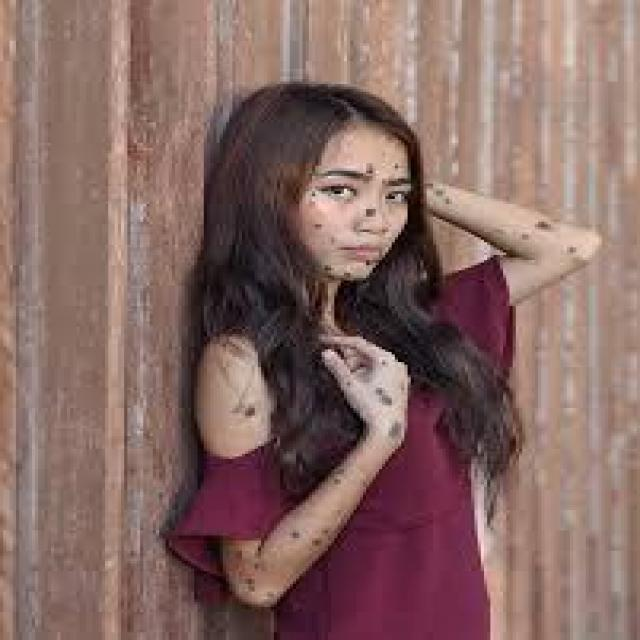person: (166, 77, 589, 638)
